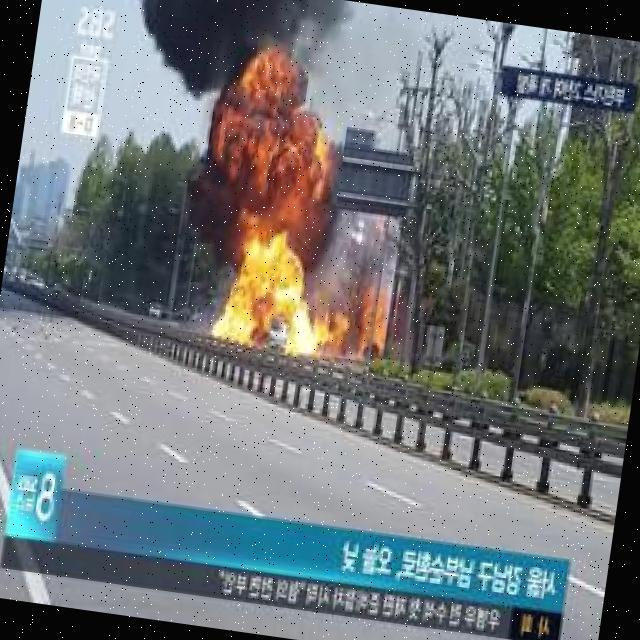Fire: (211, 237, 322, 363), (356, 300, 391, 354), (306, 320, 332, 354)
